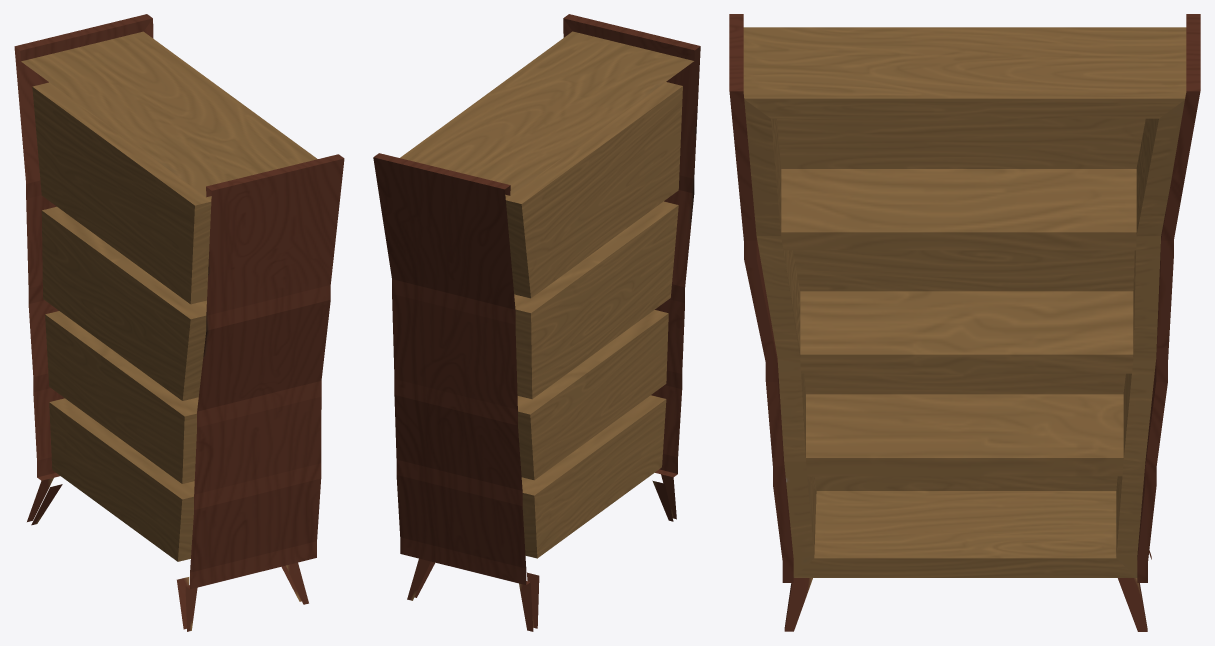
Rendered from BibliBig.FBX.
The picture shows the model from 3 angles, left to right: view 1: azimuth 30°, elevation 25°; view 2: azimuth 150°, elevation 25°; view 3: azimuth 270°, elevation 25°; orthographic projection. The views are drawn at different scales.
Parts seen in each view (by area): view 1: Object004; view 2: Object004; view 3: Object004.
Boxes of the visible parts, left/top/right/bottom form: Object004: left=14, top=14, right=344, bottom=631; Object004: left=373, top=14, right=700, bottom=631; Object004: left=729, top=14, right=1200, bottom=631.
Size of the model in its own units: 98.69 by 307 by 239.
